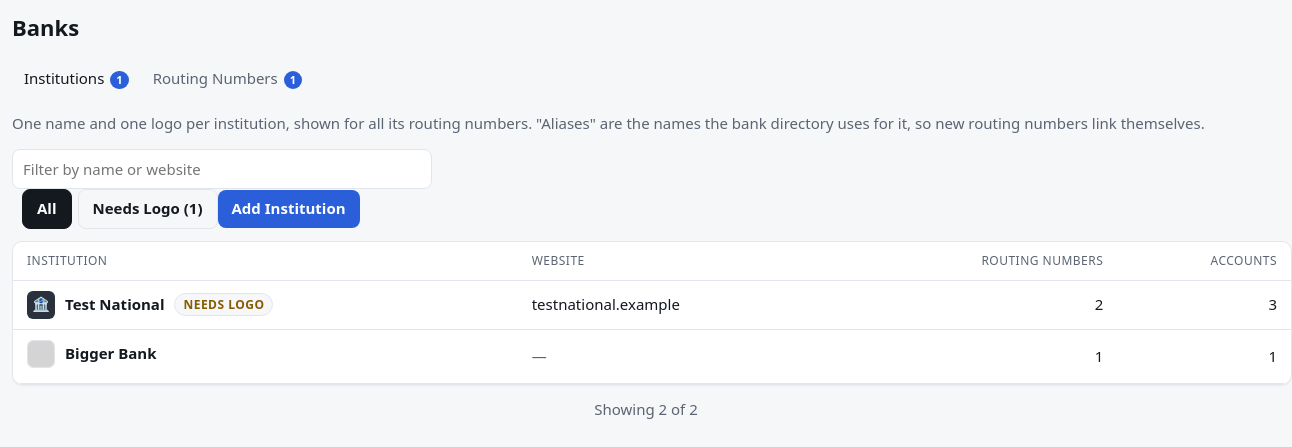
Test case: Banks: routing numbers › lists routing numbers with their institution, the directory's name, instant support and a 'not linked' marker
What coordinates should you click on to do the following:
click the tab "Routing Numbers 1"
I would click on:
 (227, 79)
Its box is [141,60,314,98].
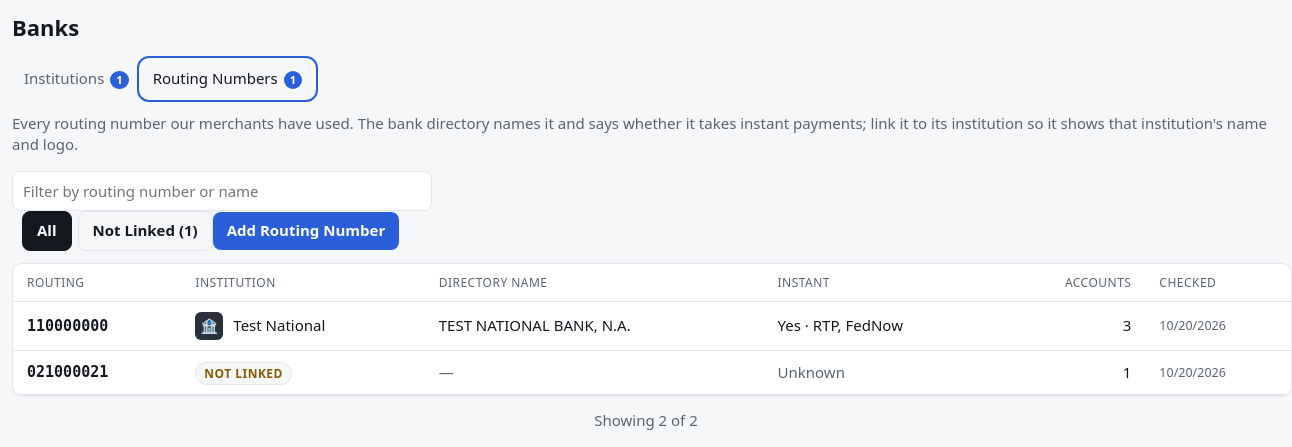
Now the row "110000000" shows "TEST NATIONAL BANK, N.A.", box [439,315,631,335]
Now the row "110000000" shows "Yes · RTP, FedNow", box [778,315,903,335]
Now the row "021000021 not linked — Unknown 1 10/20/2026" is shown, box [13,351,1291,395]
